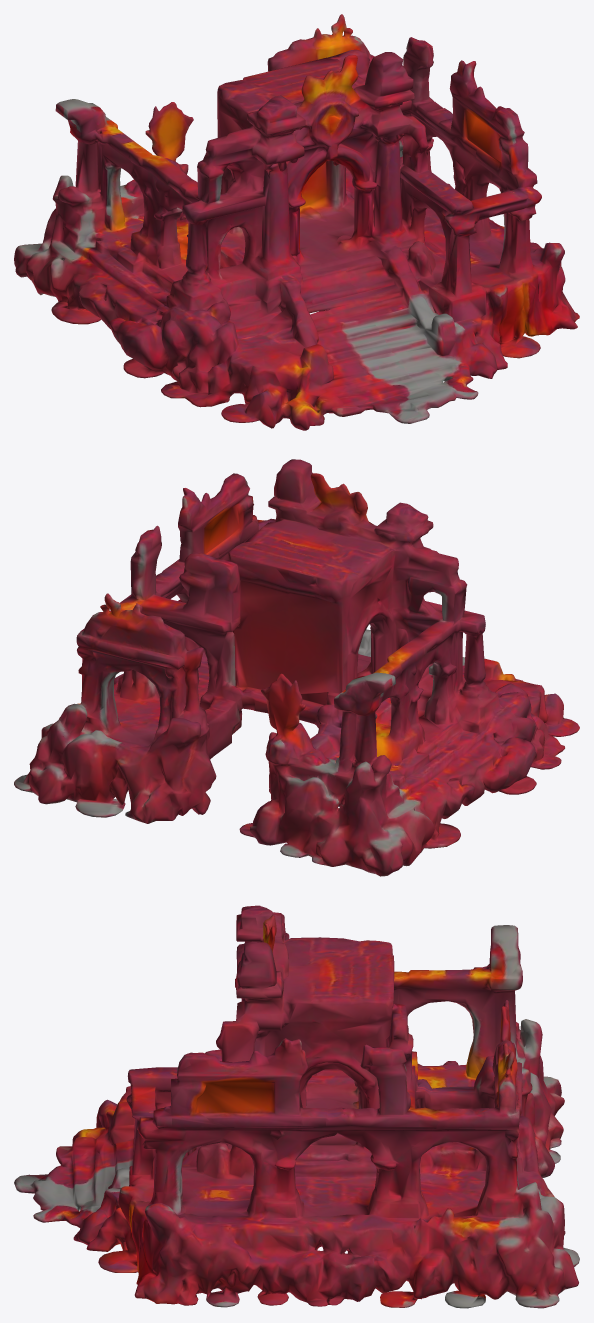
File: templo.glb
3 views of the same model, one above another, from view 1: azimuth 30°, elevation 25°; view 2: azimuth 150°, elevation 25°; view 3: azimuth 270°, elevation 25° (orthographic). The views are drawn at different scales.
Parts seen in each view (by area): view 1: tripo_node_d21a2ab9-9df8-4529-9f83-ebabdebb2be0; view 2: tripo_node_d21a2ab9-9df8-4529-9f83-ebabdebb2be0; view 3: tripo_node_d21a2ab9-9df8-4529-9f83-ebabdebb2be0.
Boxes of the visible parts, box(x1,y1,x2,y2) form: tripo_node_d21a2ab9-9df8-4529-9f83-ebabdebb2be0: box(14, 14, 579, 430); tripo_node_d21a2ab9-9df8-4529-9f83-ebabdebb2be0: box(14, 459, 579, 876); tripo_node_d21a2ab9-9df8-4529-9f83-ebabdebb2be0: box(14, 905, 579, 1308).
Size of the model in its own units: 0.8864 by 0.5743 by 0.9999.
1 material, 1 textured.
